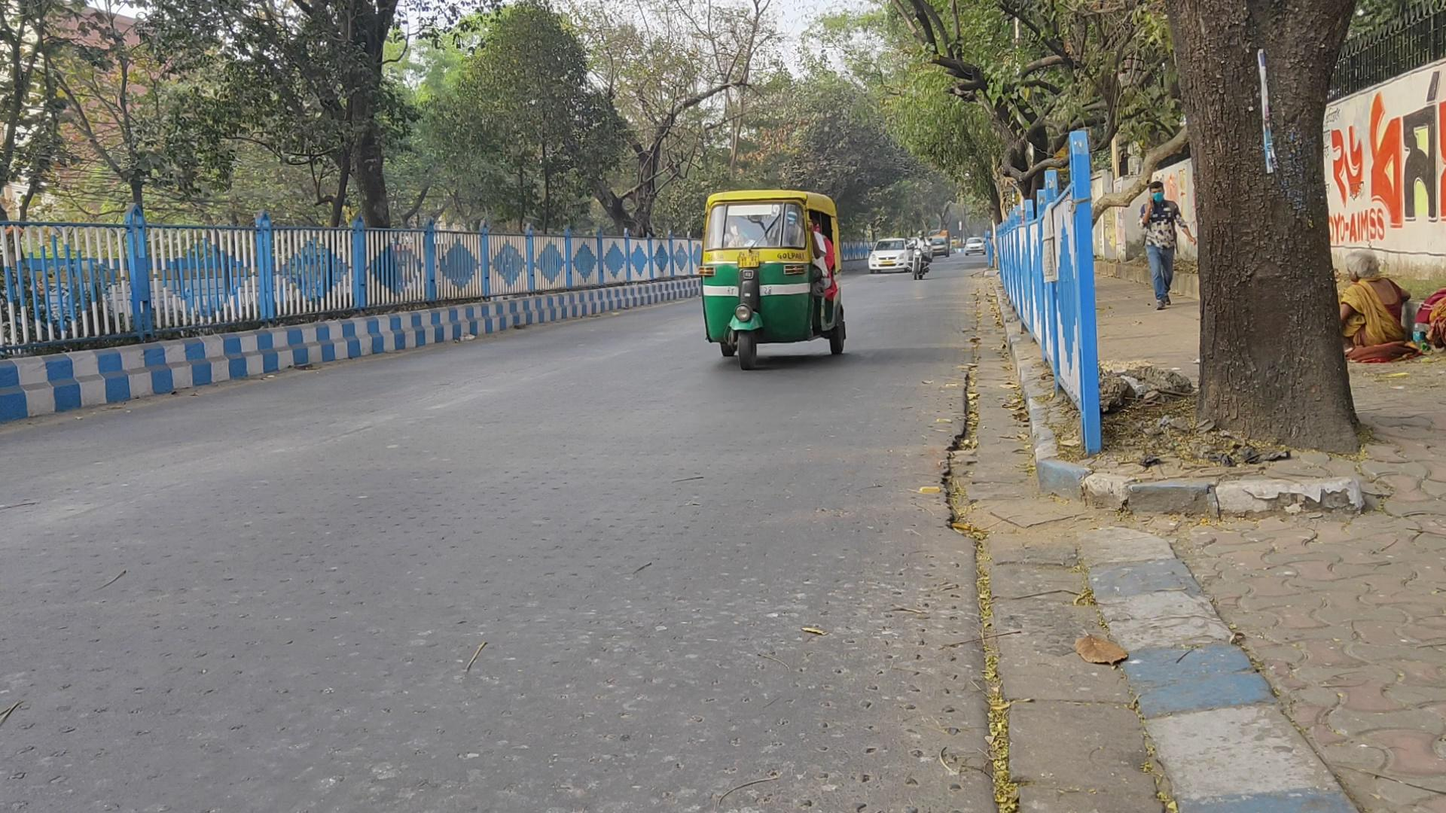Auto: (700, 187, 847, 371)
bike: (909, 230, 933, 279)
car: (865, 235, 911, 276), (963, 236, 987, 257)
van: (928, 229, 951, 260)
